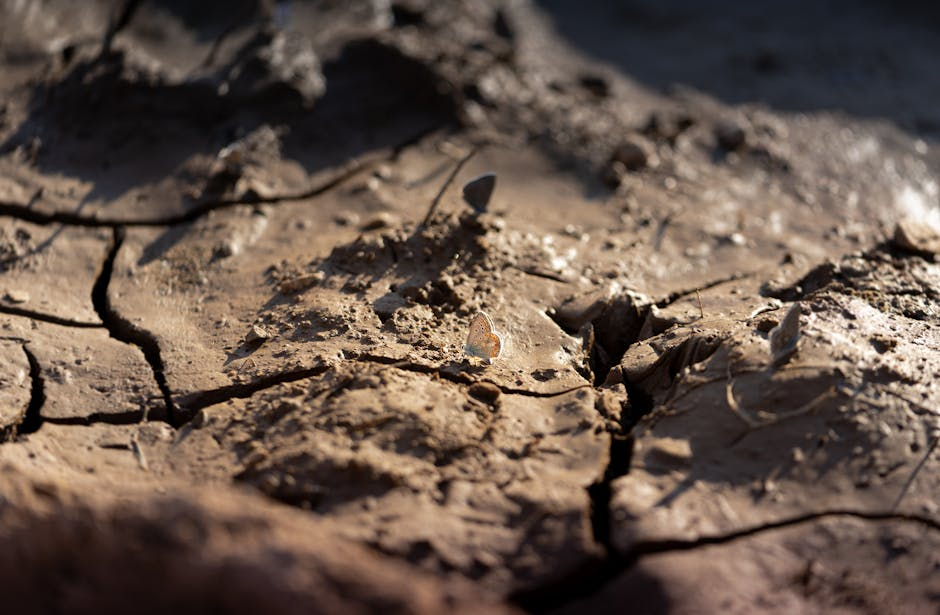细微裂纹: (0, 579, 372, 615)
